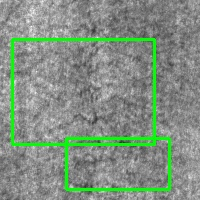crazing: (12, 39, 154, 144), (66, 138, 169, 189)
